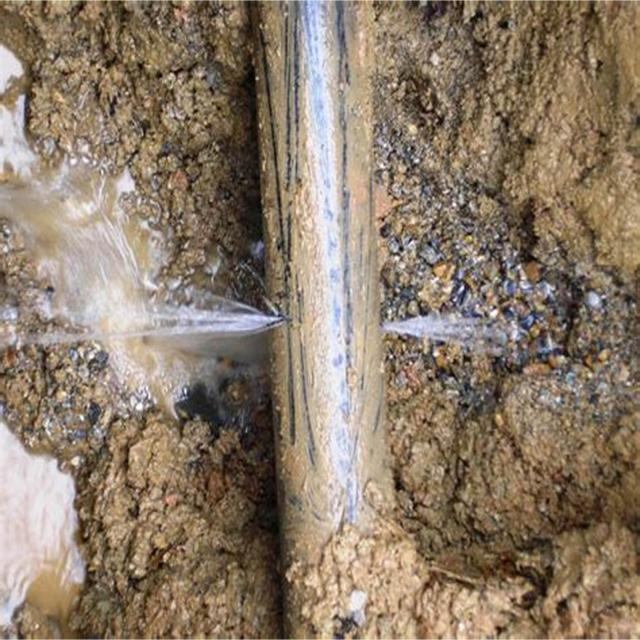leak: (0, 279, 287, 366), (376, 310, 519, 360)
